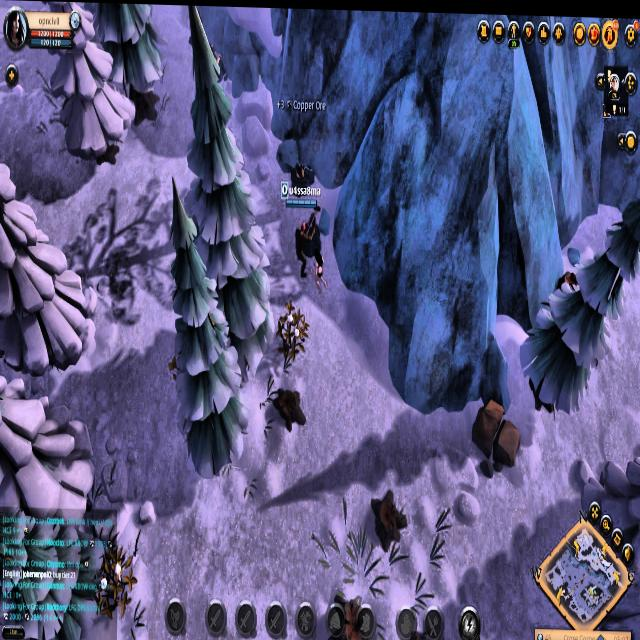cotton: (100, 540, 139, 617), (275, 301, 314, 353)
limestone: (468, 400, 528, 470)
